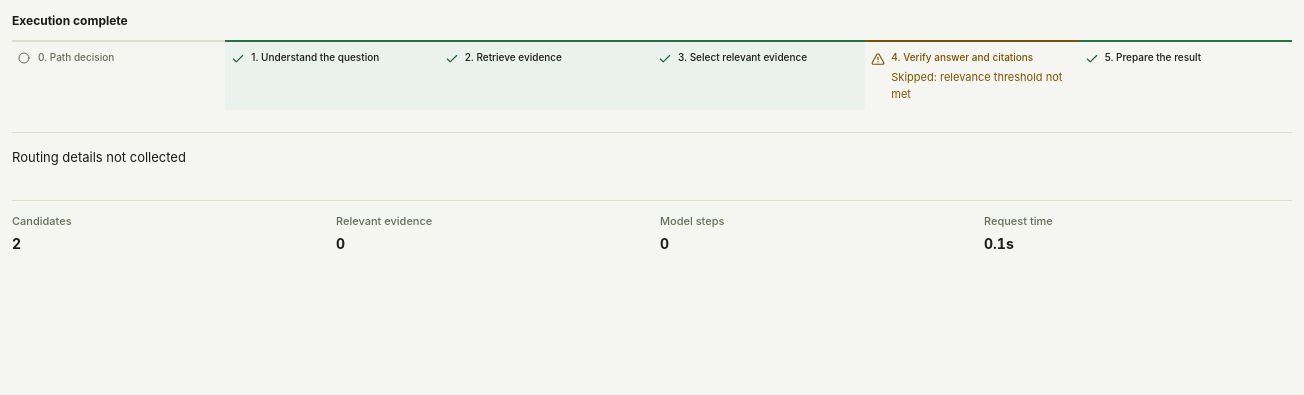
Test: stage disclosures › switches disclosures without changing the recorded skipped status
Click the button named "Verify answer and citations" at [972, 76], box top-left (865, 42), bottom-right (1079, 110)
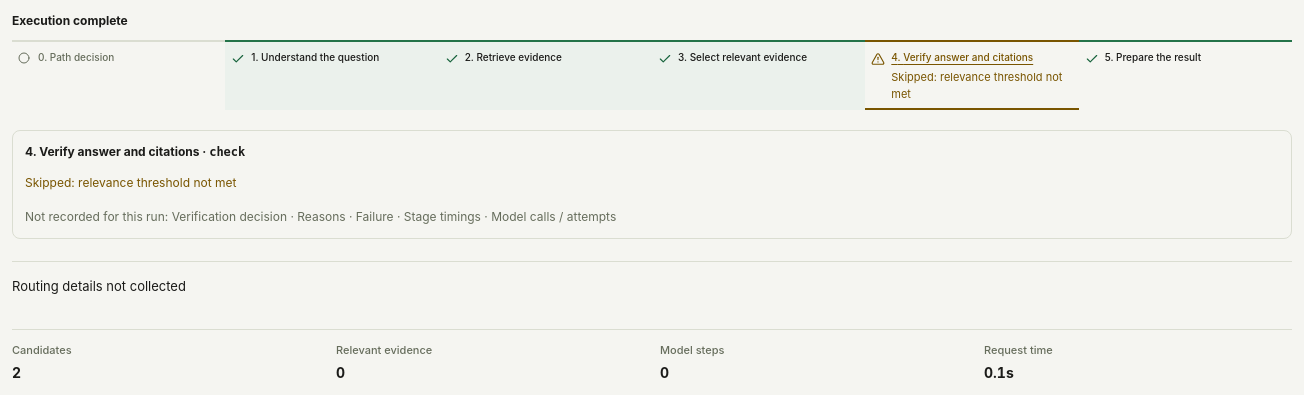
Expected: the text "Skipped: relevance threshold not met" is shown 2 times, top-left (891, 69), bottom-right (1073, 102); top-left (25, 175), bottom-right (236, 190)
Click the button named "Retrieve evidence" at [545, 76], box top-left (439, 42), bottom-right (652, 110)
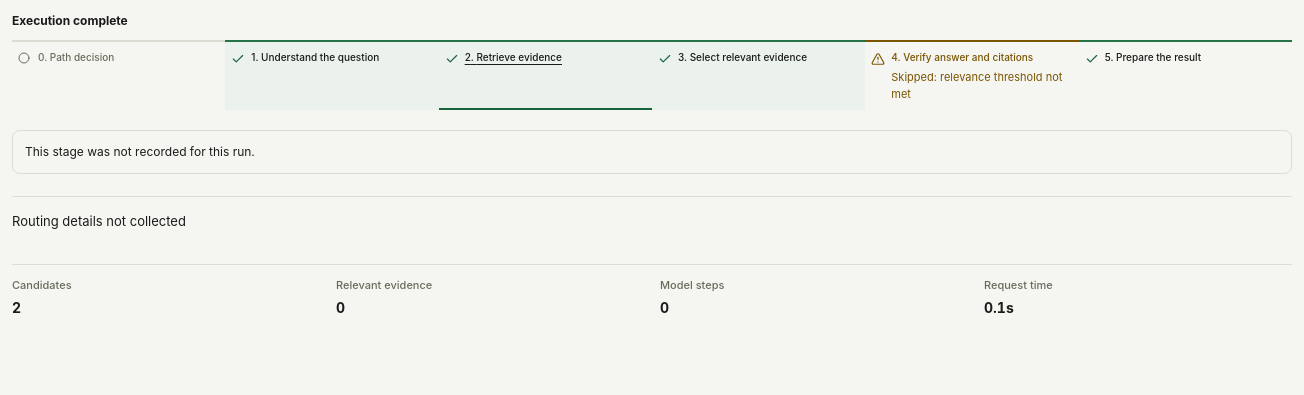
Expected: the element named "Retrieve evidence" is shown, top-left (12, 130), bottom-right (1292, 174)
Expected: the button named "Verify answer and citations" is collapsed, top-left (865, 42), bottom-right (1079, 110)
